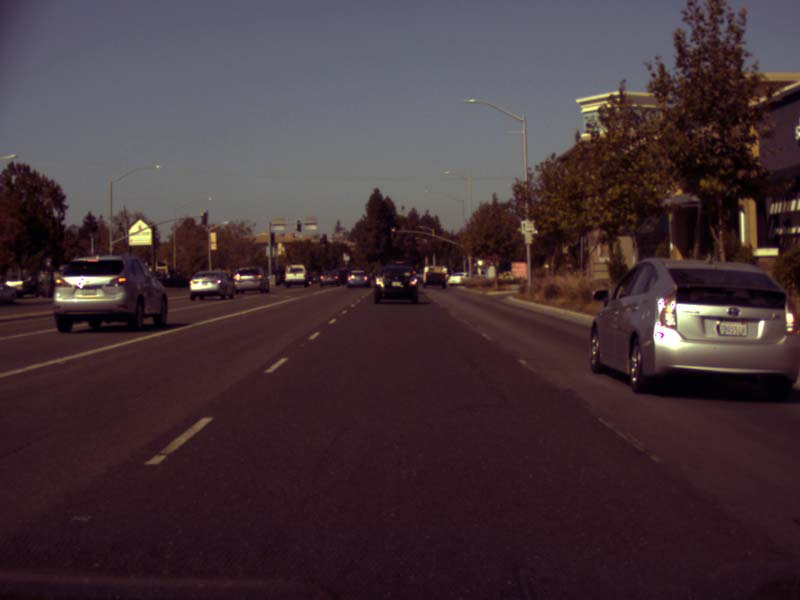Red: (389, 226, 395, 239)
